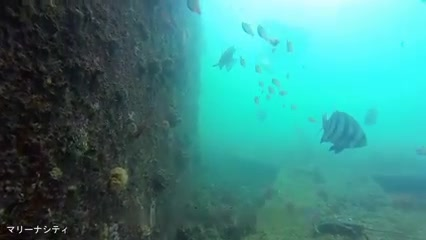ishidai: (315, 110, 372, 151)
